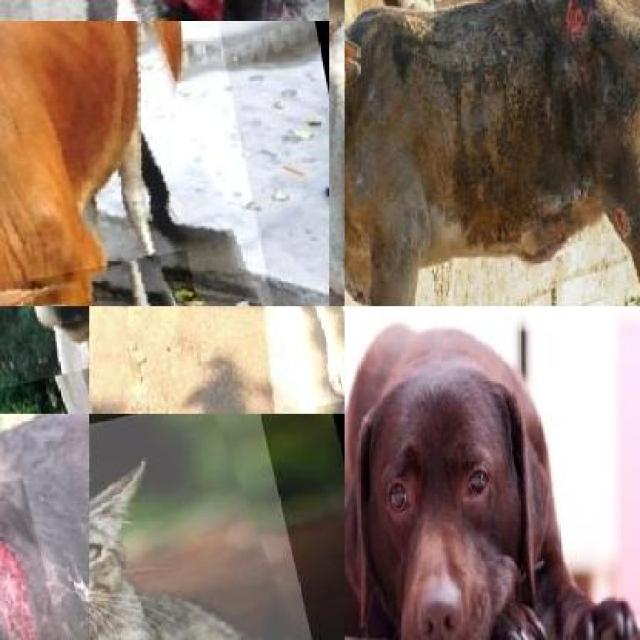cat: (89, 414, 345, 640)
cow: (0, 20, 323, 306), (344, 0, 640, 306), (0, 306, 89, 389)
dog: (344, 364, 630, 640), (172, 306, 345, 411)
injured: (28, 249, 244, 306), (0, 477, 68, 640), (542, 0, 616, 62)
